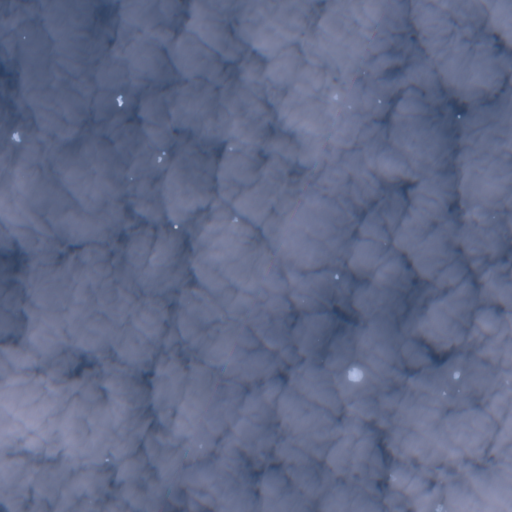Iceberg: (348, 368, 362, 381), (11, 132, 21, 141), (116, 95, 123, 106), (453, 371, 460, 379), (435, 505, 442, 511), (232, 216, 237, 221), (333, 94, 337, 99), (158, 156, 161, 162), (335, 274, 338, 279), (378, 99, 381, 103), (174, 224, 177, 228), (199, 444, 202, 448), (457, 115, 460, 118), (229, 147, 232, 150), (162, 151, 165, 154), (443, 391, 446, 394), (348, 105, 350, 108), (105, 459, 108, 461), (23, 36, 25, 38), (130, 177, 132, 179), (458, 390, 459, 391)
